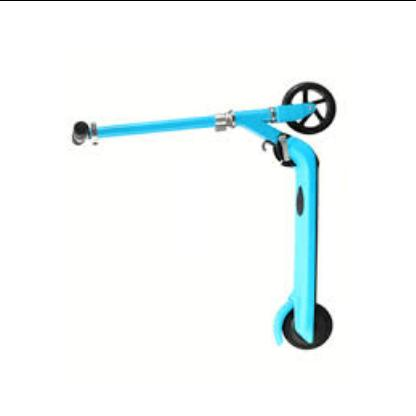bike: (71, 81, 337, 352)
